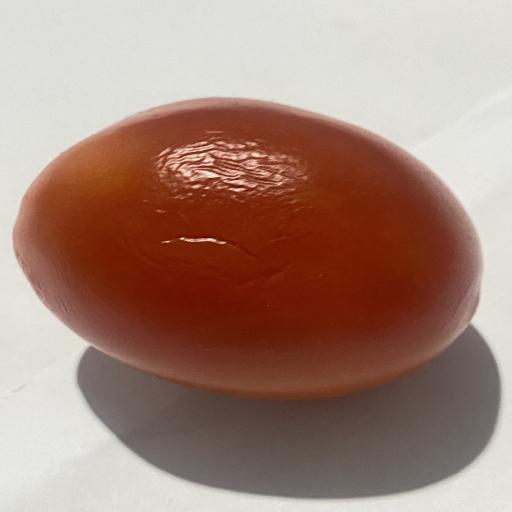overipe: (13, 98, 483, 399)
